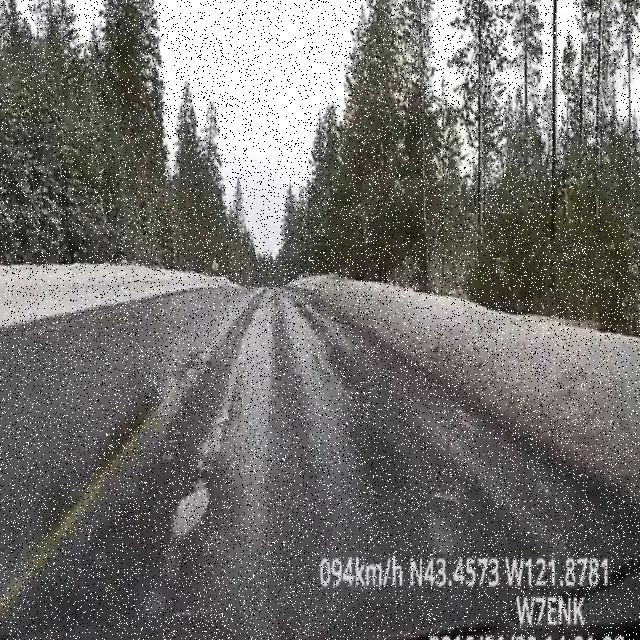pothole: (171, 470, 214, 548)
